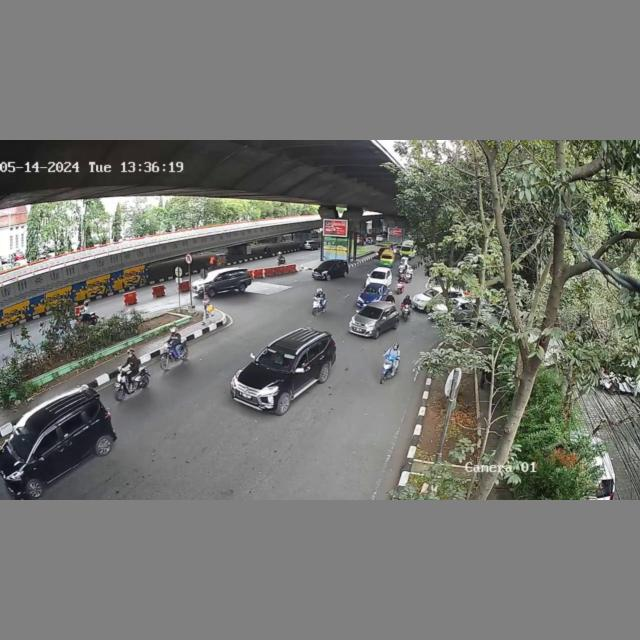windshield: (256, 348, 298, 372), (358, 305, 384, 320)
